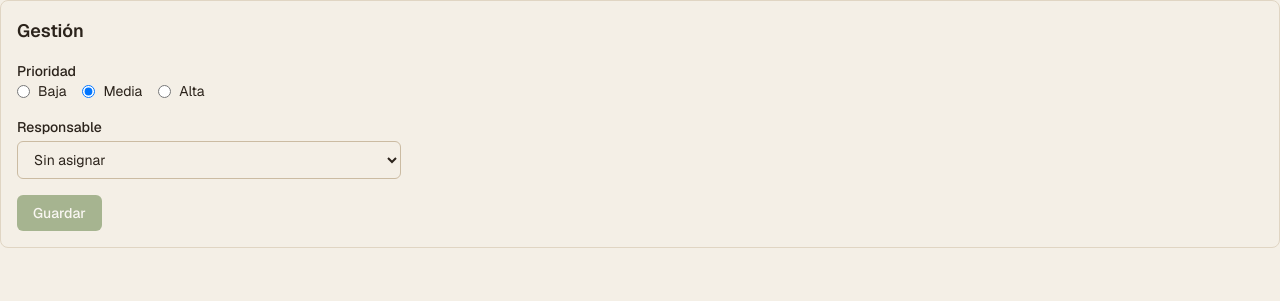
Scenario: H12. Bandeja de incidencias del administrador: priorizar y asignar › AC3: un conflicto 409 muestra el mensaje del servidor
The image size is (1280, 301).
Click the radio button labelled "Baja".
click(24, 91)  # box [17,84,30,98]
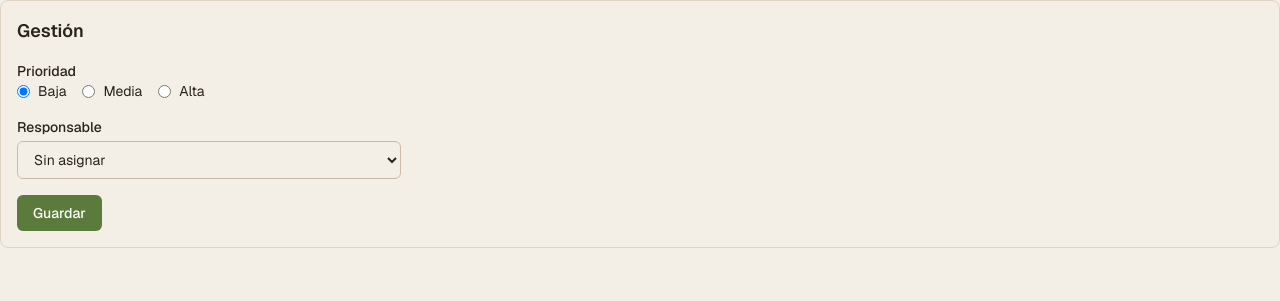
Click the button "Guardar".
click(59, 213)  # box [17,195,102,231]
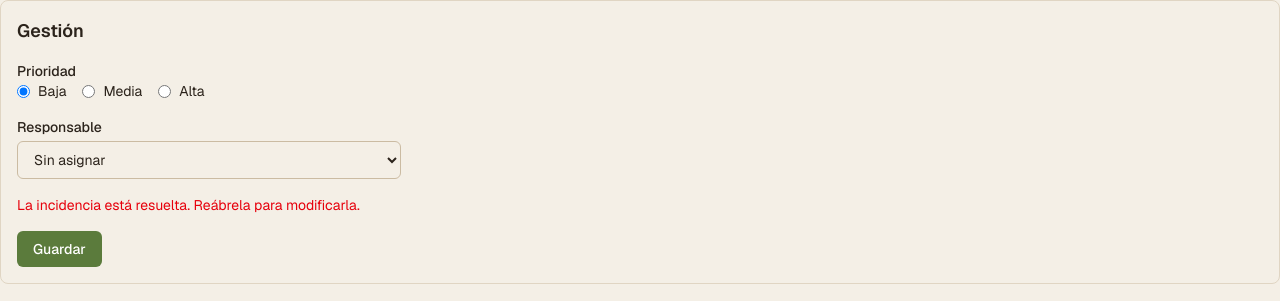
Result: the message reads "La incidencia está resuelta. Reábrela para modificarla." at [17,196,360,214]
